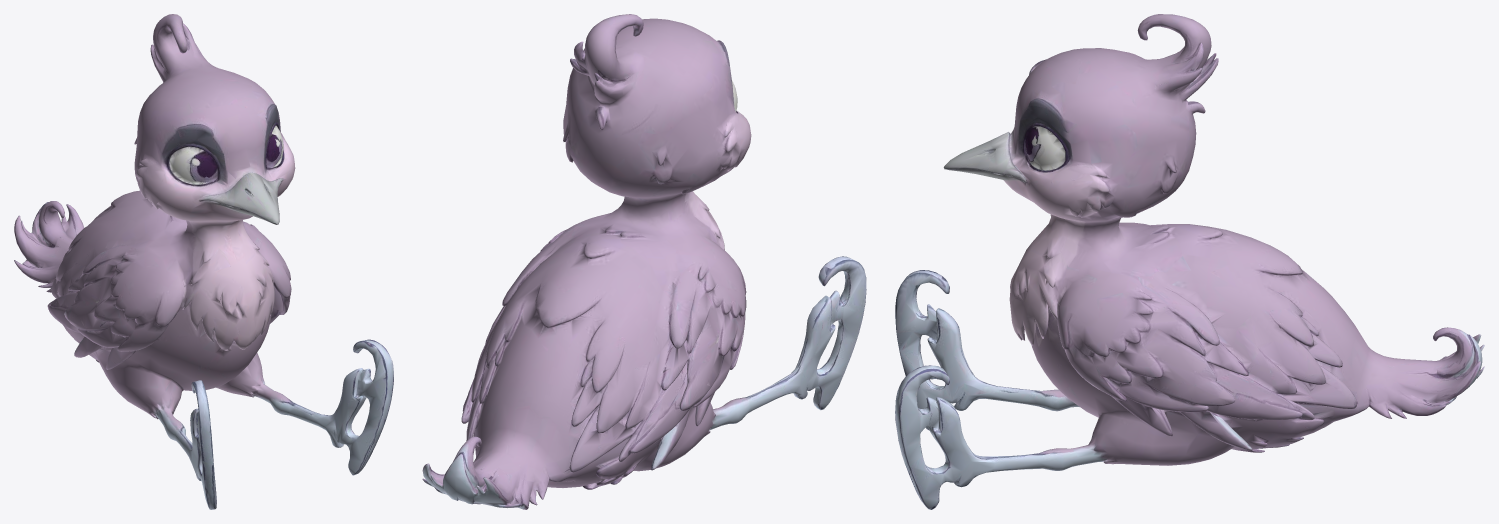
3 views of the same model, side by side, from view 1: azimuth 30°, elevation 25°; view 2: azimuth 150°, elevation 25°; view 3: azimuth 270°, elevation 25° (orthographic). The views are drawn at different scales.
Visible parts, largest first — view 1: Mesh_0; view 2: Mesh_0; view 3: Mesh_0.
Boxes of the visible parts, box(x1,y1,x2,y2) form: Mesh_0: box(14, 14, 393, 509); Mesh_0: box(422, 14, 866, 509); Mesh_0: box(895, 14, 1484, 509).
Size of the model in its own units: 0.8242 by 1.61 by 1.9.
Materials: 1 (1 with a texture image).
